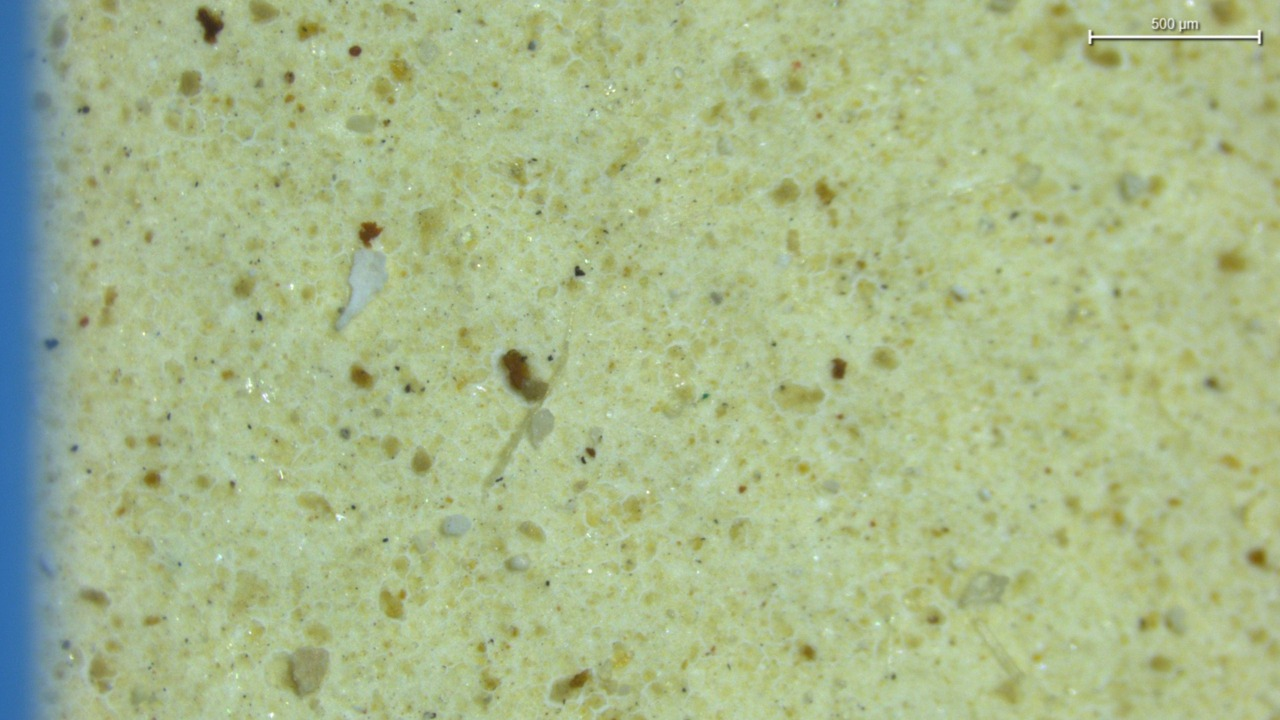microplastic_fragment: (336, 247, 387, 330), (291, 648, 329, 695), (528, 407, 554, 447), (440, 514, 472, 536), (506, 555, 530, 571)
